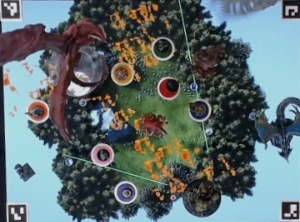blue: (186, 96, 212, 120)
green: (148, 33, 175, 62)
orange: (23, 100, 48, 124)
pink: (89, 139, 116, 167)
red: (153, 73, 182, 100)
violet: (113, 178, 140, 206)
yellow: (107, 58, 134, 86)
